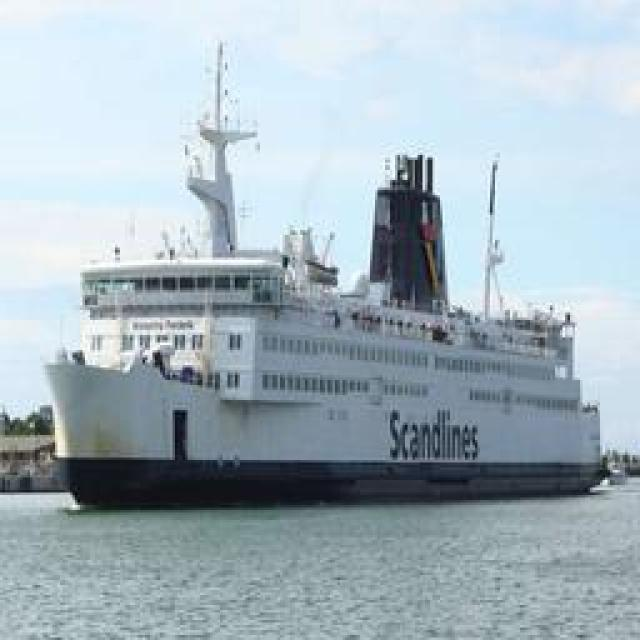CIV_Ship: (48, 124, 608, 502)
